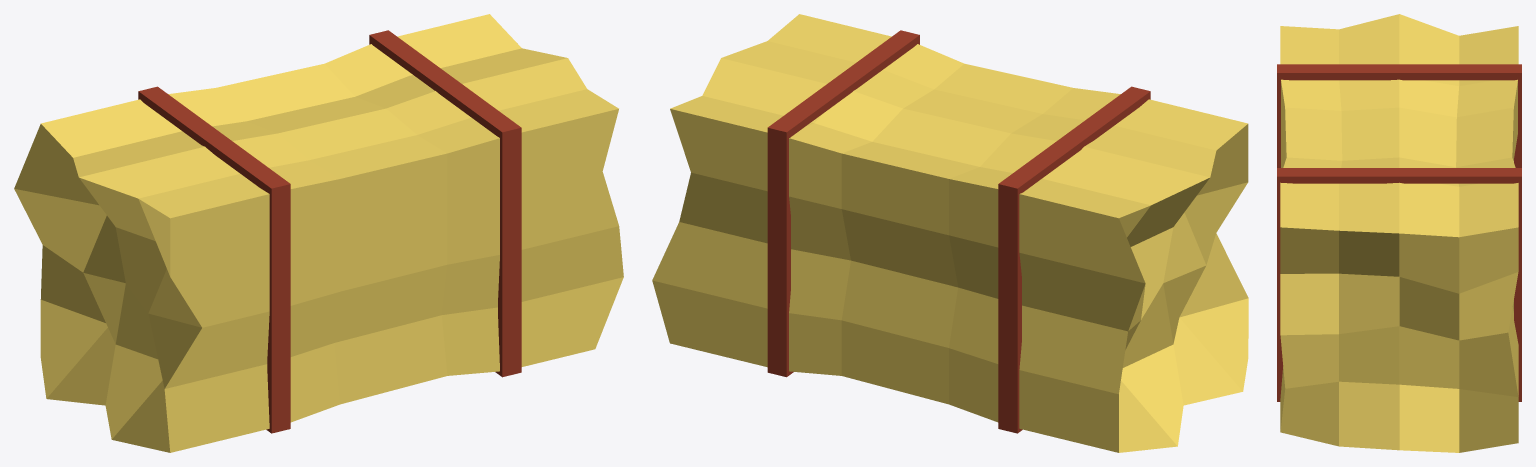
Rendered from straw.glb.
3 renders of one model, left to right at view 1: azimuth 30°, elevation 25°; view 2: azimuth 150°, elevation 25°; view 3: azimuth 270°, elevation 25°, orthographic. The views are drawn at different scales.
Parts seen in each view (by area): view 1: straw; view 2: straw; view 3: straw.
Boxes of the visible parts, x1=… form: straw: x1=14, y1=14, x2=623, y2=452; straw: x1=652, y1=14, x2=1248, y2=452; straw: x1=1277, y1=14, x2=1521, y2=452.
Bounding box in the file's own units: 5.15 × 2.51 × 2.41.
Materials: 1 (1 with a texture image).
